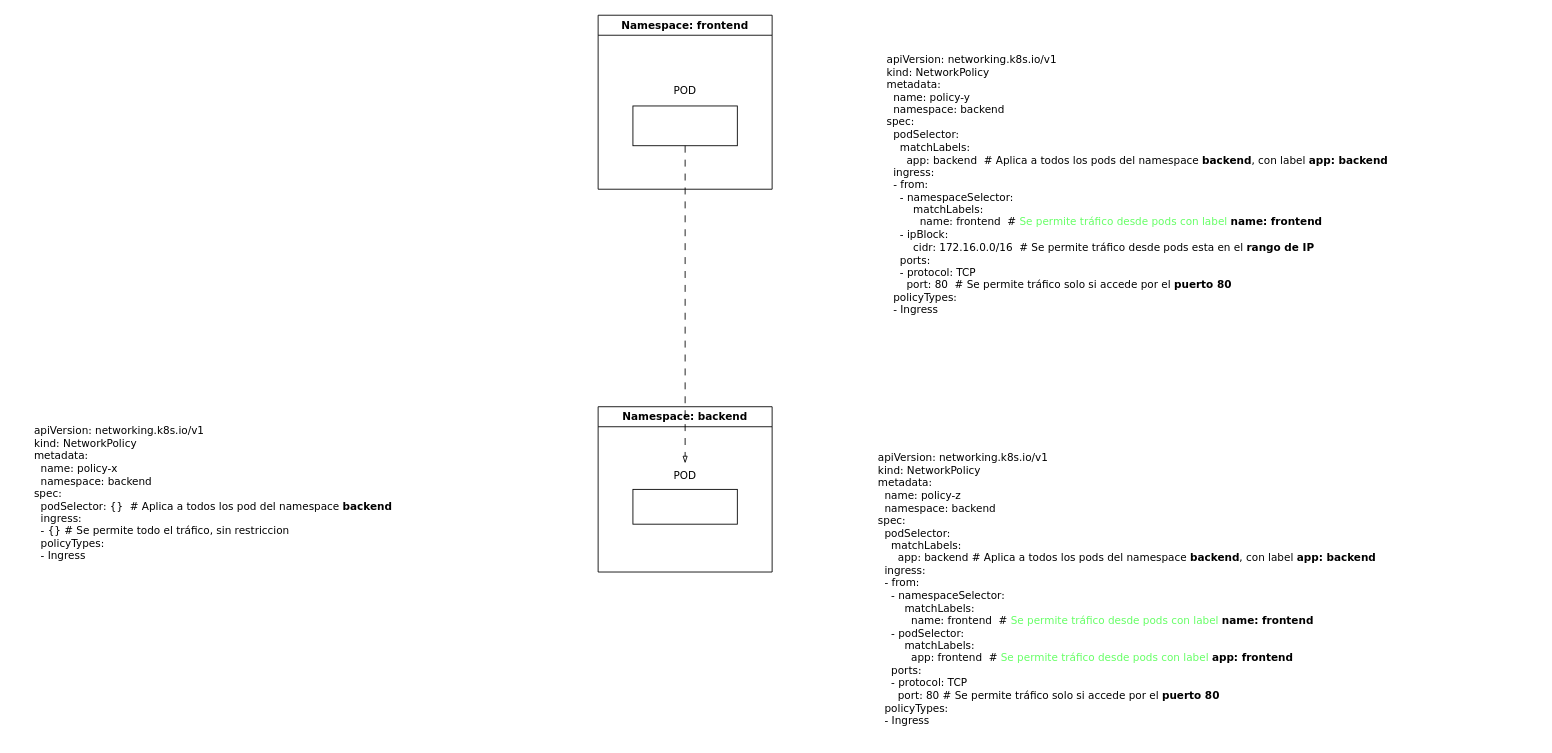
The diagram is 1552 pixels wide and 753 high, and some of its shapes have lost their labels. Here are the shapes that lost their labels. From the top down, the centre of each, then its label:
the point at 684,125: name: frontend app: frontend
the point at 684,506: app: backend
